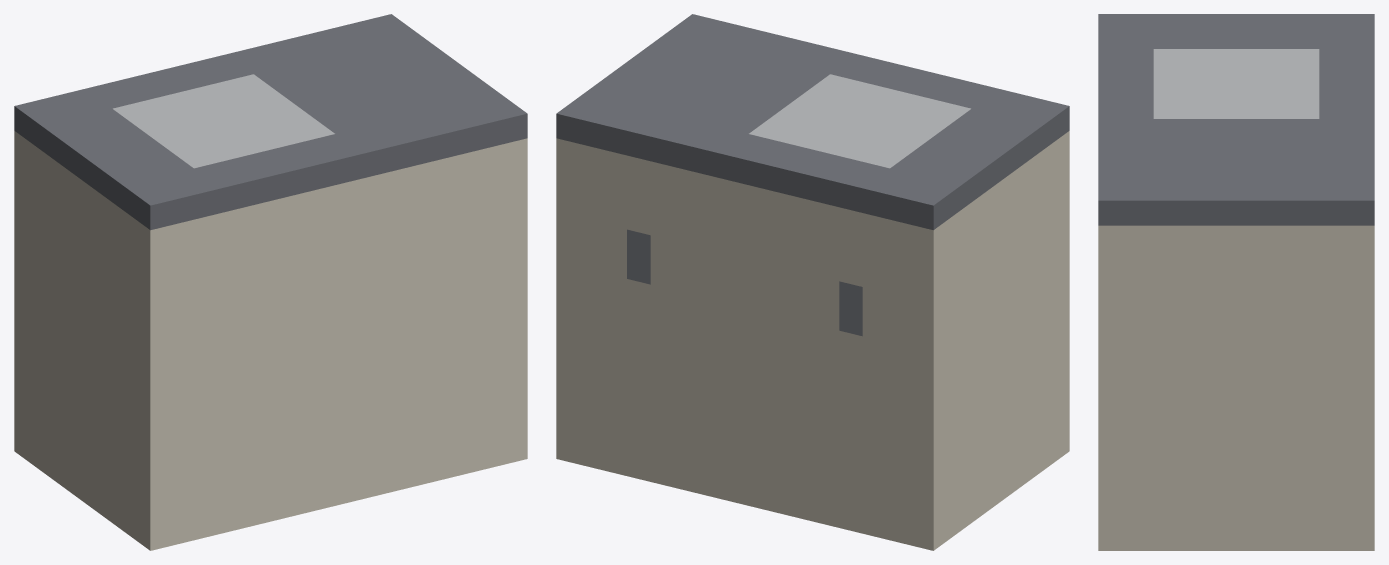
The model's file is plan_travail.glb.
3 views of the same model, side by side, from view 1: azimuth 30°, elevation 25°; view 2: azimuth 150°, elevation 25°; view 3: azimuth 270°, elevation 25° (orthographic).
Parts seen in each view (by area): view 1: main; view 2: main; view 3: main.
Part boxes in pixels (x1,y1,x2,y2): main: [14, 14, 527, 550]; main: [556, 14, 1069, 550]; main: [1098, 14, 1374, 550].
Size of the model in its own units: 1 by 0.875 by 0.625.
